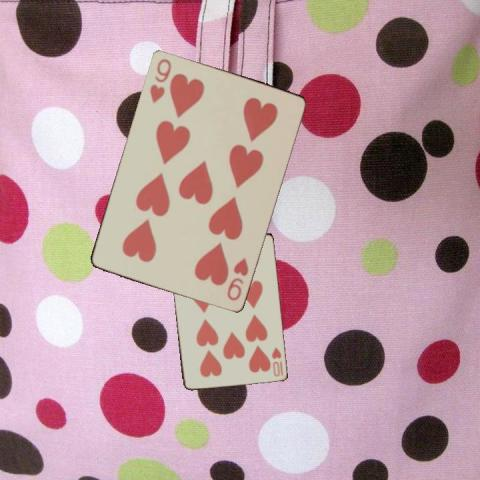10h: (269, 344, 284, 377)
9h: (146, 54, 172, 104), (223, 254, 250, 302)
